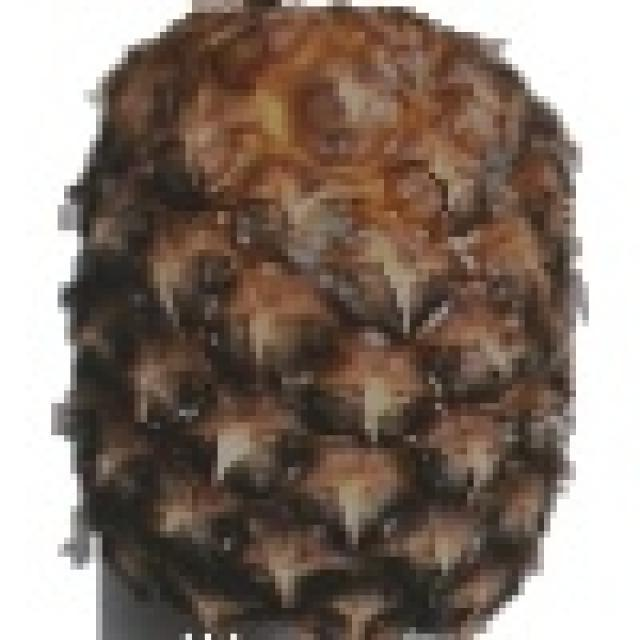pineapple: (77, 0, 582, 627)
